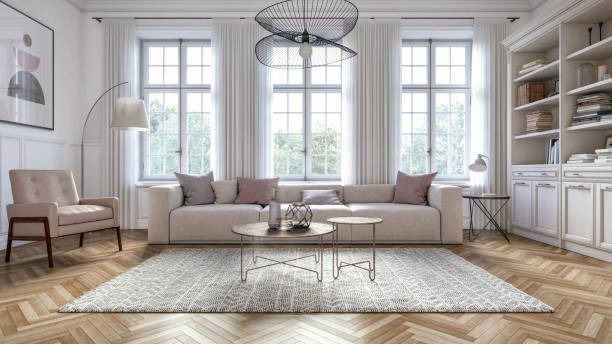chair: (4, 168, 125, 268)
floor lamp: (79, 75, 151, 196)
side table: (463, 194, 512, 245)
sofa: (146, 170, 465, 247)
table: (229, 220, 336, 283), (326, 214, 384, 284)
table lamp: (467, 150, 503, 197)
wall art: (0, 0, 56, 131)
